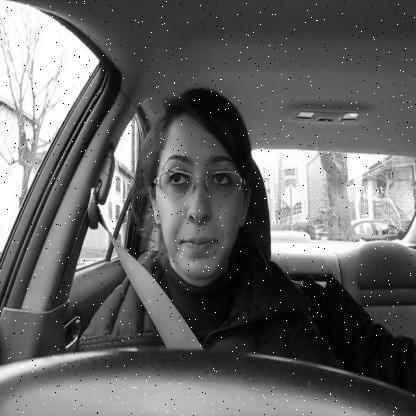seatbelt: (88, 63, 271, 349)
